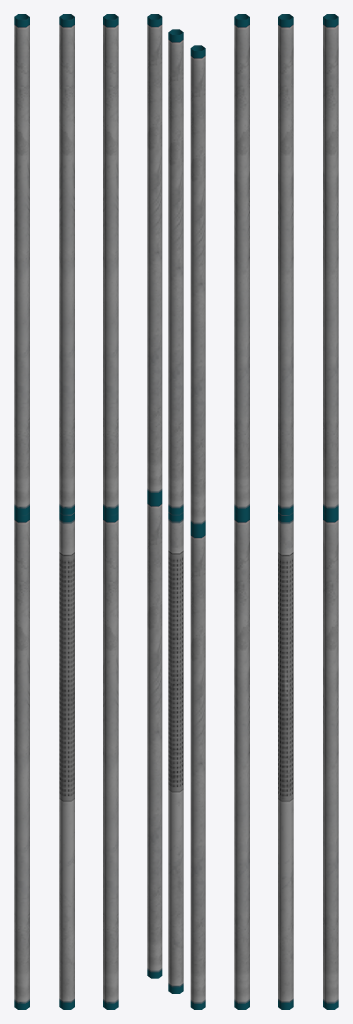
The model's file is CP_Pipe_A_4m_01.fbx.
The picture shows the model from 3 angles, left to right: view 1: azimuth 90°, elevation 25°; view 2: azimuth 210°, elevation 25°; view 3: azimuth 270°, elevation 25°; orthographic projection. The views are drawn at different scales.
Parts seen in each view (by area): view 1: CP_Pipe_A_4m_01; view 2: CP_Pipe_A_4m_01; view 3: CP_Pipe_A_4m_01.
Part boxes in pixels (box(x1,y1,x2,y2)): CP_Pipe_A_4m_01: box(14, 14, 118, 1009); CP_Pipe_A_4m_01: box(147, 14, 205, 1009); CP_Pipe_A_4m_01: box(234, 14, 338, 1009).
Size of the model in its own units: 5.04 by 400 by 38.29.
